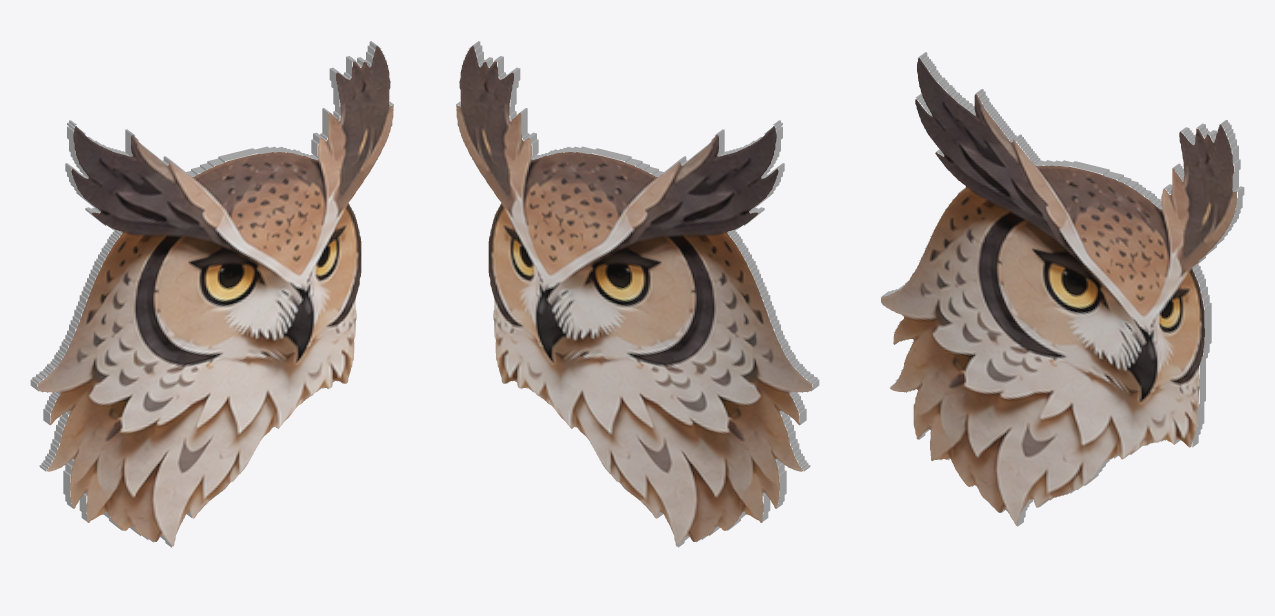
Rendered from HeadMain.glb.
3 renders of one model, left to right at view 1: azimuth 30°, elevation 25°; view 2: azimuth 150°, elevation 25°; view 3: azimuth 330°, elevation 25°, orthographic.
Visible parts, largest first — view 1: PaperVolume; view 2: PaperVolume; view 3: PaperVolume.
Part boxes in pixels (x1,y1,x2,y2): PaperVolume: [30, 41, 393, 547]; PaperVolume: [456, 41, 819, 547]; PaperVolume: [881, 52, 1244, 526].
Size of the model in its own units: 2.76 by 3.3 by 0.08.
3 materials, 2 textured.
